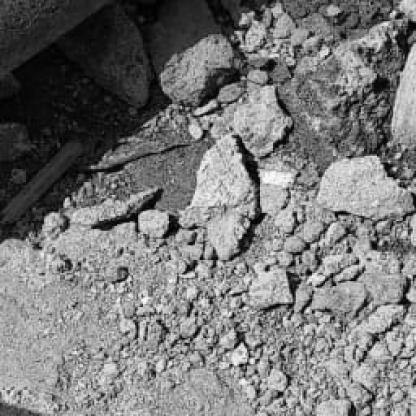cementitious_debris: (2, 5, 414, 414)
